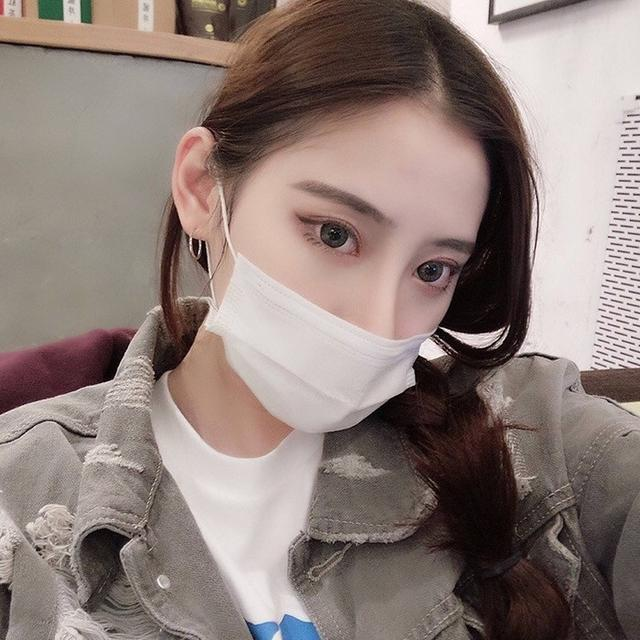mask: (213, 193, 479, 451)
